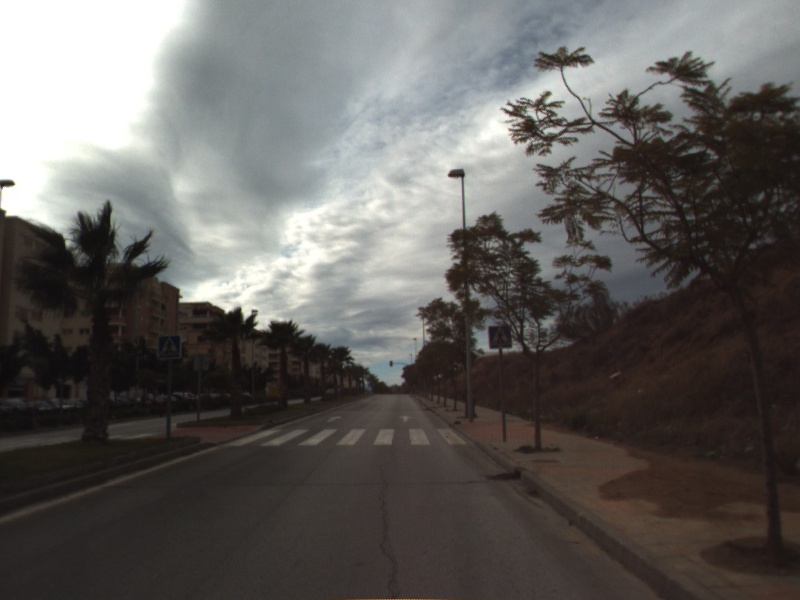STRAIGHT: (324, 413, 344, 424), (398, 413, 414, 424)
